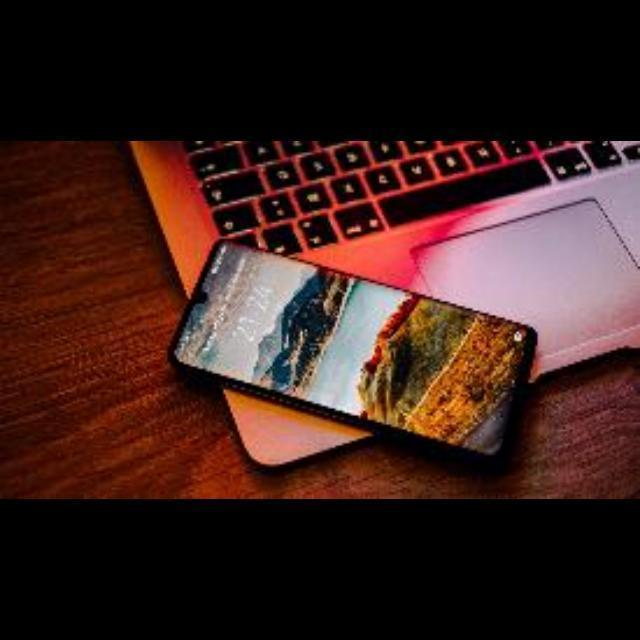phone: (150, 227, 561, 485)
